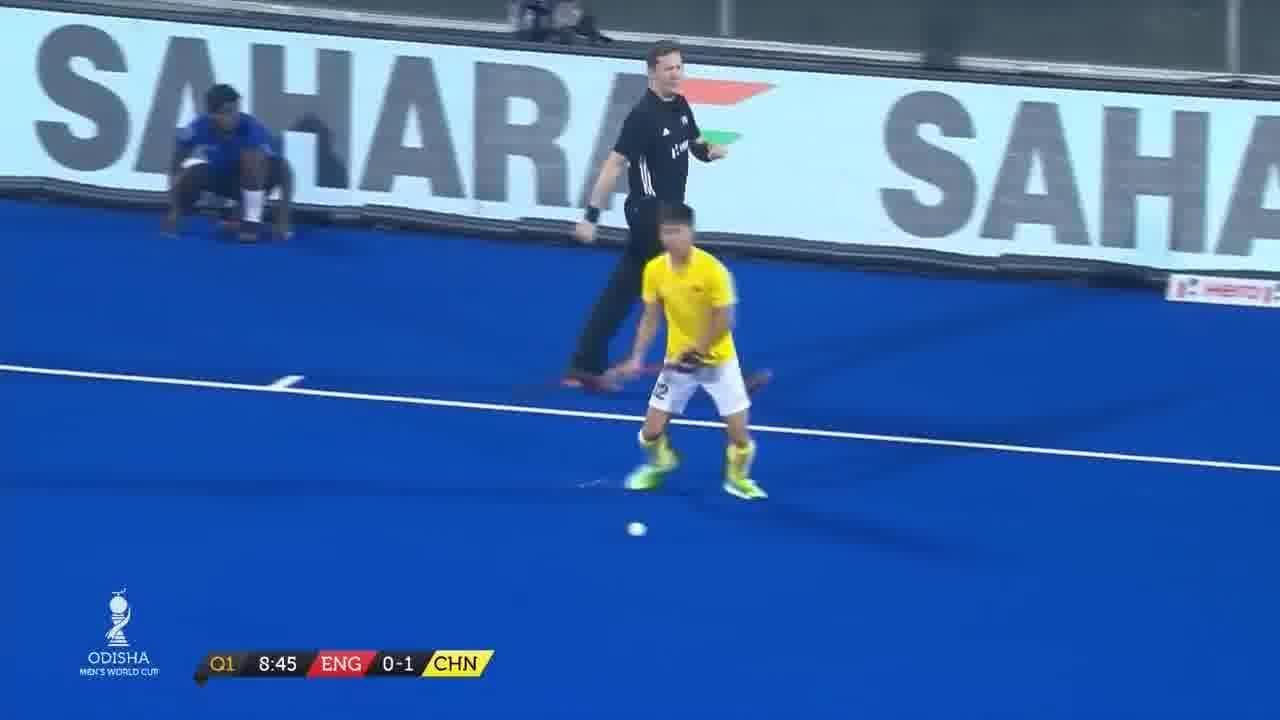ball: (621, 519, 651, 544)
